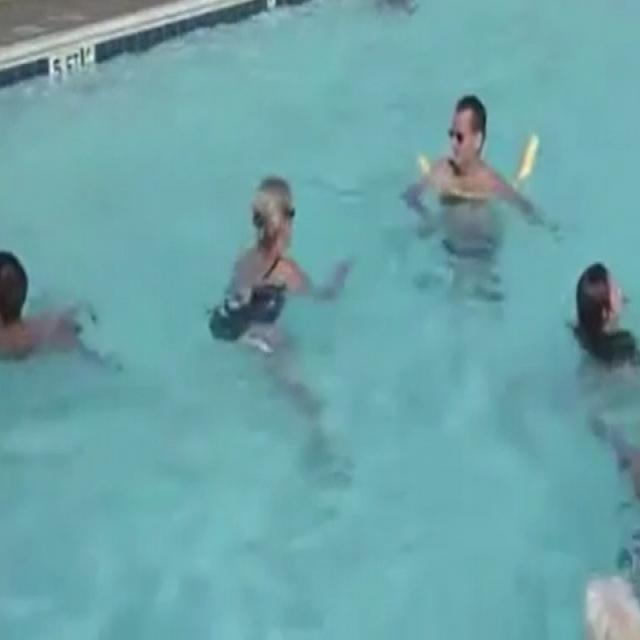swimming: (381, 84, 550, 301), (177, 163, 352, 364), (0, 236, 121, 396), (550, 252, 640, 396)
